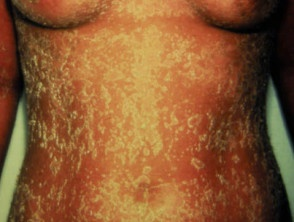SJS-TEN: (6, 0, 281, 221)
